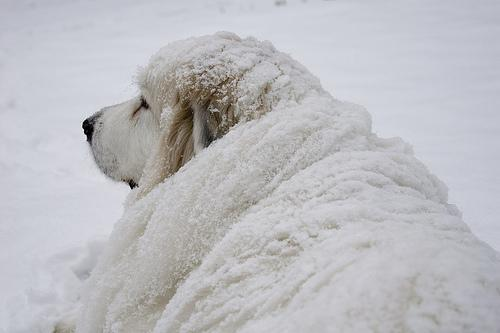Great_Pyrenees: (73, 32, 499, 332)
